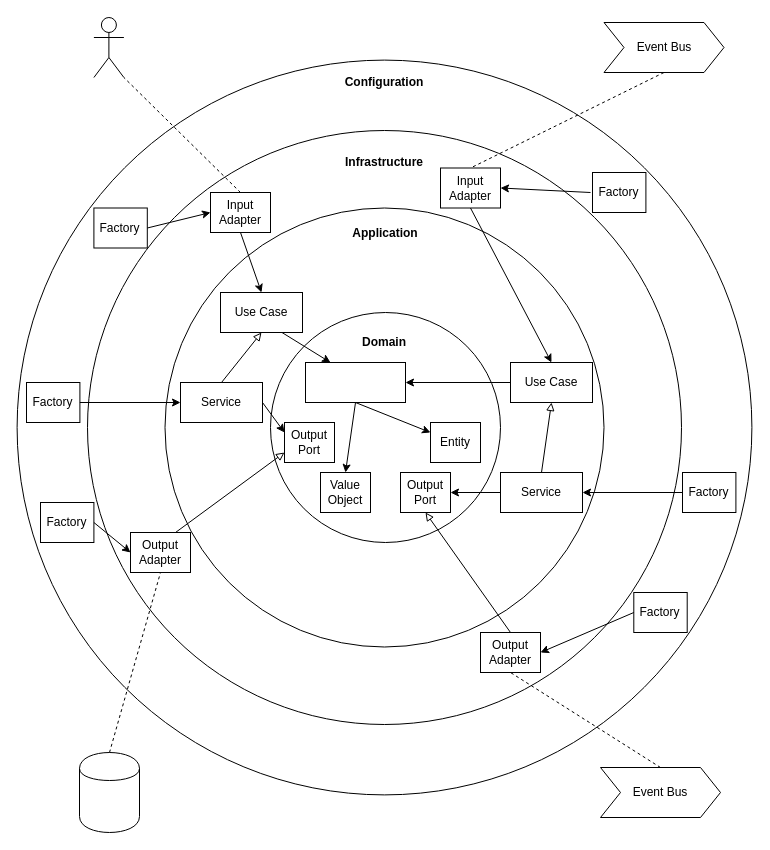
This 770x850 diagram has some shape labels left out. The box of each missing label's shape, as (x1, y1, x2, y2) in pixels:
Aggregate: (304, 362, 406, 402)
DB: (78, 752, 140, 832)
User: (93, 16, 124, 78)
